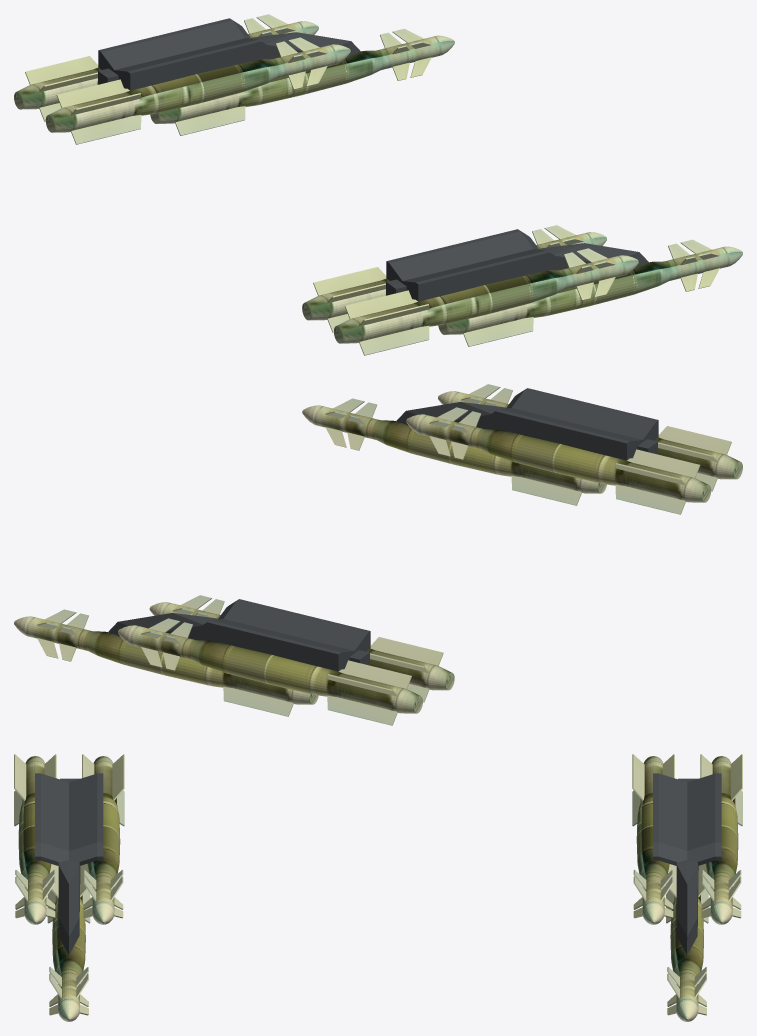
File: rafaleaasm23.glb
3 renders of one model, top to bottom at view 1: azimuth 30°, elevation 25°; view 2: azimuth 150°, elevation 25°; view 3: azimuth 270°, elevation 25°, orthographic. The views are drawn at different scales.
Parts seen in each view (by area): view 1: 円柱.011, 円柱.014, 立方体.009, 立方体.007, 円柱.012, 円柱.015, 円柱.010, 円柱.013; view 2: 円柱.013, 円柱.010, 立方体.009, 立方体.007, 円柱.012, 円柱.015, 円柱.014, 円柱.011; view 3: 立方体.007, 立方体.009, 円柱.010, 円柱.013, 円柱.014, 円柱.011, 円柱.015, 円柱.012.
Part boxes in pixels (left/top/right/bottom): 円柱.011: left=45, top=37, right=350, bottom=144; 円柱.014: left=334, top=248, right=638, bottom=355; 立方体.009: left=386, top=229, right=648, bottom=301; 立方体.007: left=97, top=18, right=360, bottom=90; 円柱.012: left=150, top=28, right=454, bottom=135; 円柱.015: left=438, top=239, right=742, bottom=346; 円柱.010: left=14, top=14, right=318, bottom=121; 円柱.013: left=302, top=225, right=606, bottom=332; 円柱.013: left=406, top=407, right=711, bottom=514; 円柱.010: left=118, top=618, right=422, bottom=725; 立方体.009: left=396, top=388, right=658, bottom=460; 立方体.007: left=108, top=599, right=370, bottom=671; 円柱.012: left=14, top=609, right=318, bottom=716; 円柱.015: left=302, top=398, right=606, bottom=505; 円柱.014: left=438, top=384, right=742, bottom=491; 円柱.011: left=149, top=595, right=454, bottom=702; 立方体.007: left=653, top=773, right=721, bottom=954; 立方体.009: left=35, top=773, right=103, bottom=954; 円柱.010: left=700, top=754, right=742, bottom=924; 円柱.013: left=82, top=754, right=124, bottom=924; 円柱.014: left=14, top=754, right=56, bottom=924; 円柱.011: left=632, top=754, right=674, bottom=924; 円柱.015: left=47, top=864, right=90, bottom=1021; 円柱.012: left=666, top=863, right=708, bottom=1021.
Bounding box in the file's own units: 3.25 × 0.5983 × 4.55.
4 materials, 2 textured.
